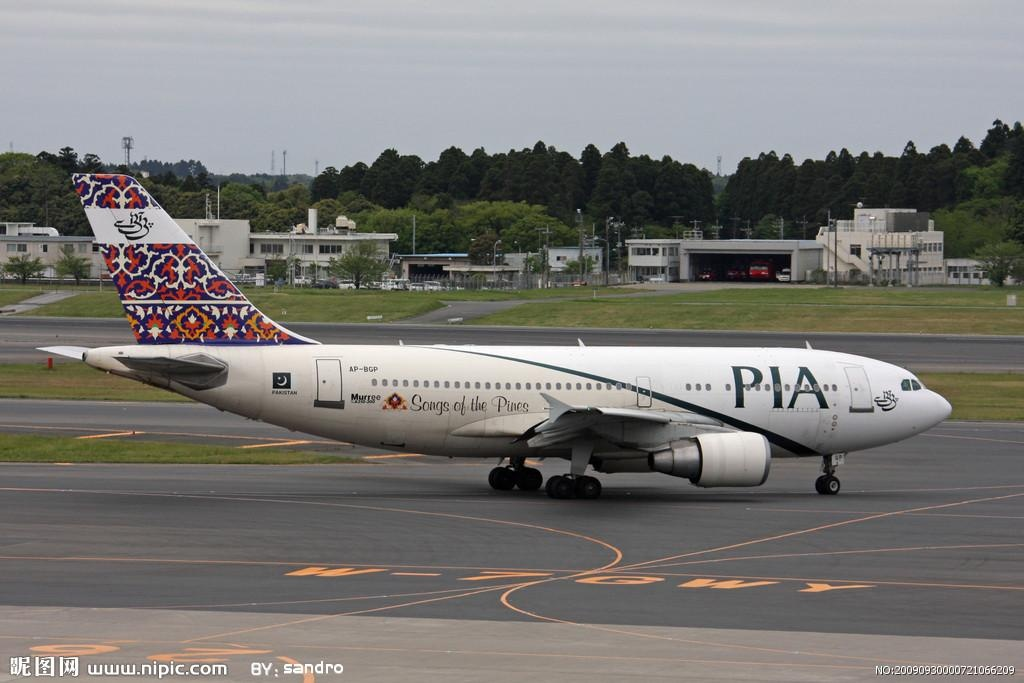airplane: (35, 169, 965, 505)
